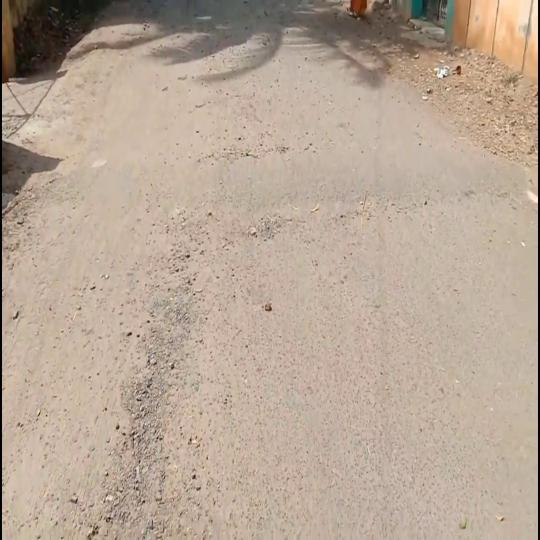Speed Bump: (15, 146, 532, 198)
